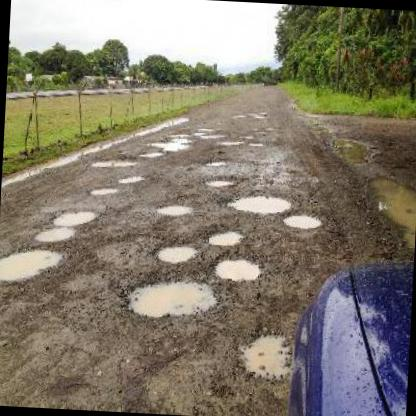pothole: (123, 272, 218, 321), (237, 328, 294, 382), (0, 244, 63, 284), (212, 252, 260, 282), (223, 192, 291, 212), (50, 206, 98, 229), (204, 226, 245, 249), (156, 240, 197, 263), (31, 224, 73, 244), (280, 210, 321, 230), (91, 152, 136, 166), (156, 201, 192, 217), (147, 137, 190, 150), (202, 174, 239, 188), (116, 171, 146, 182), (89, 184, 117, 194), (137, 147, 164, 157), (204, 156, 228, 166)
